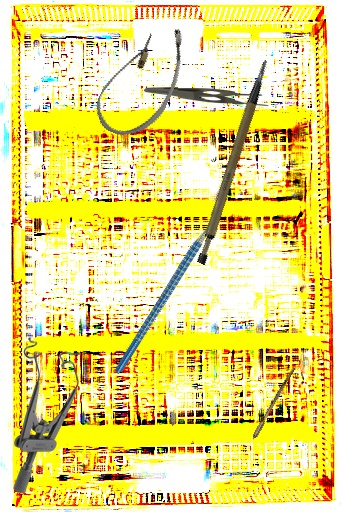Cannula: (88, 11, 197, 148)
Chopper: (67, 189, 270, 375)
Dressing Forceps: (143, 86, 270, 109)
Scalpel Handle: (171, 59, 300, 267)
Speculum: (13, 335, 81, 495)
Surgical Spoon: (238, 366, 296, 463)
